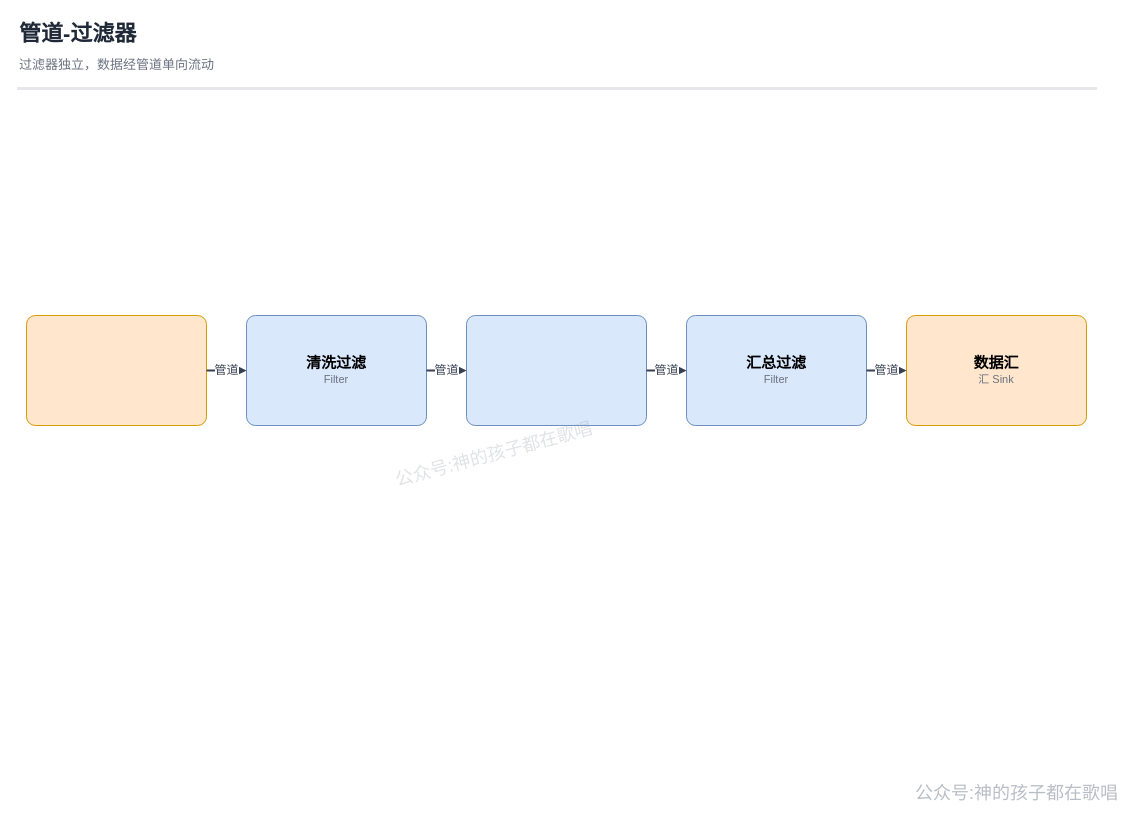
Some shapes in this 1137 by 827 pixel diagram are drawn without their labels. The centre of each missing label's shape, as x and y in pixels:
"数据源 源 Source" goes at point (116, 370).
"转换过滤 Filter" goes at point (556, 370).
